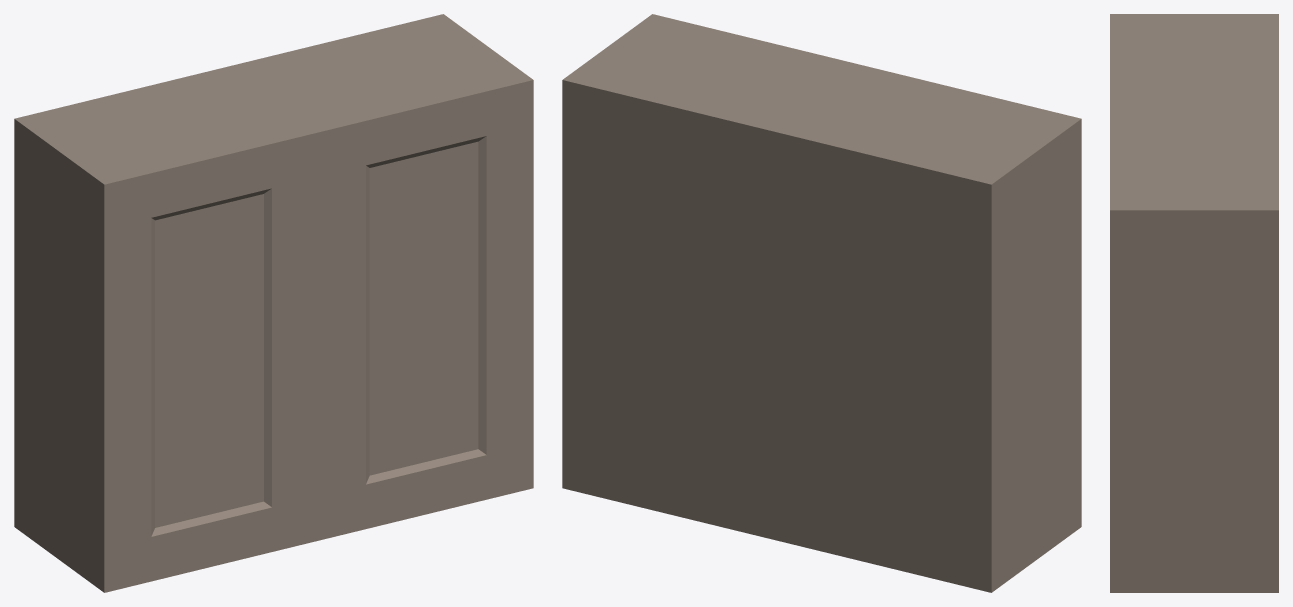
Rendered from WHP-Wall-Cabinet-Double-Door-Shelves_std_001_W33in.glb.
The picture shows the model from 3 angles, left to right: view 1: azimuth 30°, elevation 25°; view 2: azimuth 150°, elevation 25°; view 3: azimuth 270°, elevation 25°; orthographic projection. The views are drawn at different scales.
Parts seen in each view (by area): view 1: WHP-Wall-Cabinet-Double-Door-Shelves.std.001_W33in; view 2: WHP-Wall-Cabinet-Double-Door-Shelves.std.001_W33in; view 3: WHP-Wall-Cabinet-Double-Door-Shelves.std.001_W33in.
Boxes of the visible parts, x1,y1,x2,y2 form: WHP-Wall-Cabinet-Double-Door-Shelves.std.001_W33in: [14, 14, 533, 592]; WHP-Wall-Cabinet-Double-Door-Shelves.std.001_W33in: [562, 14, 1081, 592]; WHP-Wall-Cabinet-Double-Door-Shelves.std.001_W33in: [1110, 14, 1278, 592].
Size of the model in its own units: 0.8382 by 0.762 by 0.3048.
